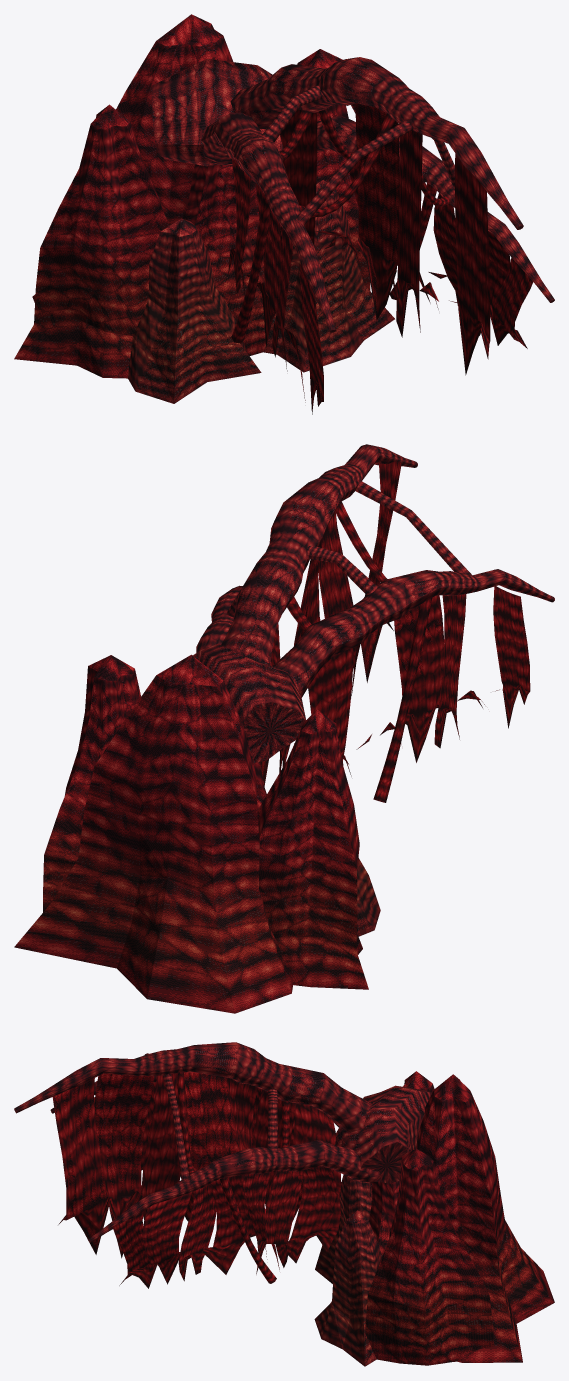
Rendered from Monument_GiantBoneWing_East.glb.
3 views of the same model, one above another, from view 1: azimuth 30°, elevation 25°; view 2: azimuth 150°, elevation 25°; view 3: azimuth 270°, elevation 25° (orthographic). The views are drawn at different scales.
Parts seen in each view (by area): view 1: BoneWing_Cliff_Outcrop, BoneWing_Tendon_Webs, BoneWing_Skeletal_Ribs, BoneWing_Calcified_Base; view 2: BoneWing_Cliff_Outcrop, BoneWing_Skeletal_Ribs, BoneWing_Tendon_Webs, BoneWing_Calcified_Base; view 3: BoneWing_Tendon_Webs, BoneWing_Cliff_Outcrop, BoneWing_Skeletal_Ribs, BoneWing_Calcified_Base.
Boxes of the visible parts, x1,y1,x2,y2 form: BoneWing_Cliff_Outcrop: (14,14,370,378); BoneWing_Tendon_Webs: (228,103,532,414); BoneWing_Skeletal_Ribs: (151,57,554,332); BoneWing_Calcified_Base: (128,180,394,403); BoneWing_Cliff_Outcrop: (14,654,368,1013); BoneWing_Skeletal_Ribs: (193,444,554,763); BoneWing_Tendon_Webs: (260,461,530,802); BoneWing_Calcified_Base: (357,857,380,936); BoneWing_Tendon_Webs: (52,1072,341,1288); BoneWing_Cliff_Outcrop: (365,1071,554,1365); BoneWing_Skeletal_Ribs: (14,1042,431,1242); BoneWing_Calcified_Base: (314,1175,381,1366).
Bounding box in the file's own units: 16.38 × 16.51 × 29.4.
Materials: 4 (4 with a texture image).
